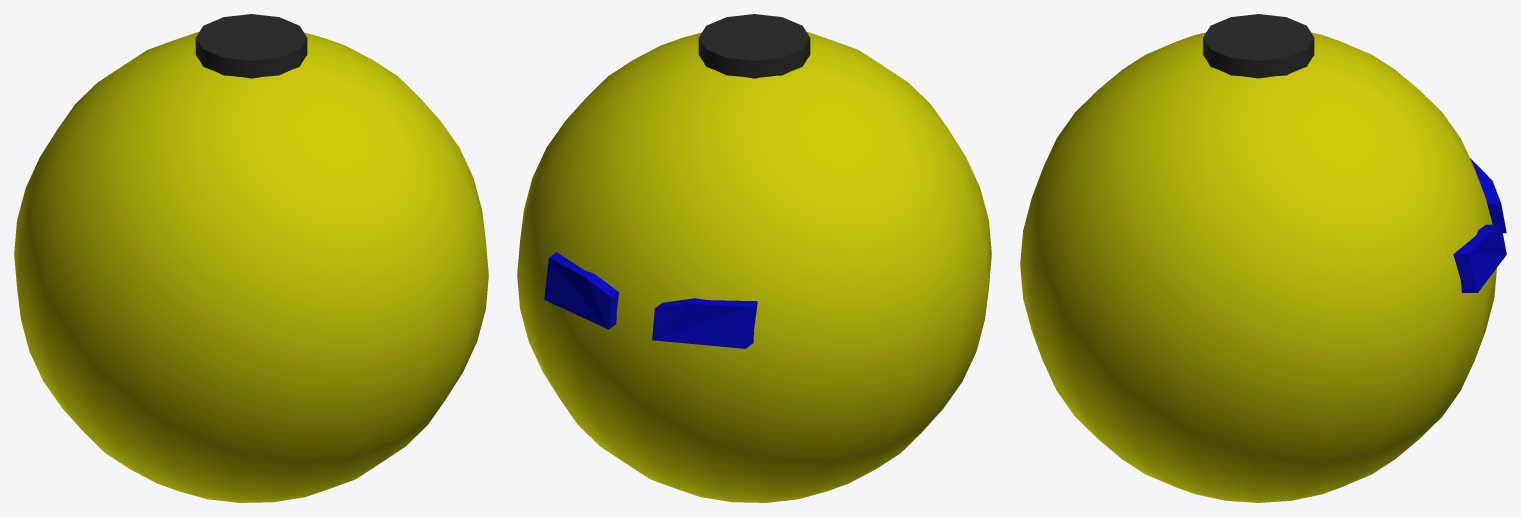
The model's file is enemy_halo_body.obj.
3 renders of one model, left to right at view 1: azimuth 30°, elevation 25°; view 2: azimuth 150°, elevation 25°; view 3: azimuth 270°, elevation 25°, orthographic.
Visible parts, largest first — view 1: body, cap; view 2: body, eye, cap; view 3: body, cap, eye.
Boxes of the visible parts, left/top/right/bottom form: body: left=14, top=32, right=488, bottom=502; cap: left=195, top=14, right=307, bottom=78; body: left=517, top=32, right=991, bottom=502; eye: left=544, top=252, right=757, bottom=348; cap: left=698, top=14, right=810, bottom=78; body: left=1020, top=32, right=1496, bottom=502; cap: left=1203, top=14, right=1314, bottom=78; eye: left=1453, top=158, right=1506, bottom=292.
Bounding box in the file's own units: 0.6 × 0.615 × 0.612.
